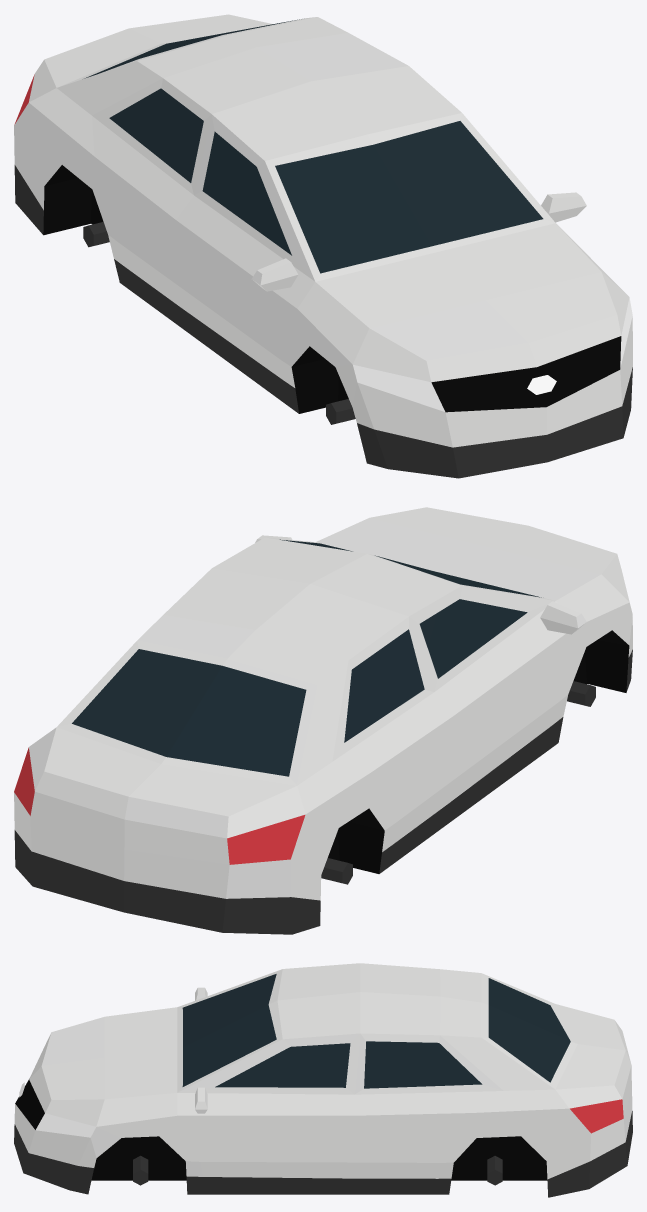
The model's file is car-passenger-base.glb.
3 renders of one model, top to bottom at view 1: azimuth 30°, elevation 25°; view 2: azimuth 150°, elevation 25°; view 3: azimuth 270°, elevation 25°, orthographic. The views are drawn at different scales.
Parts seen in each view (by area): view 1: car-passenger-base; view 2: car-passenger-base; view 3: car-passenger-base.
Part boxes in pixels (bbox=[...]): car-passenger-base: bbox=[14, 14, 632, 478]; car-passenger-base: bbox=[14, 507, 632, 934]; car-passenger-base: bbox=[14, 963, 632, 1197].
Bounding box in the file's own units: 2.1 × 1.32 × 4.72.
1 material, 1 textured.
